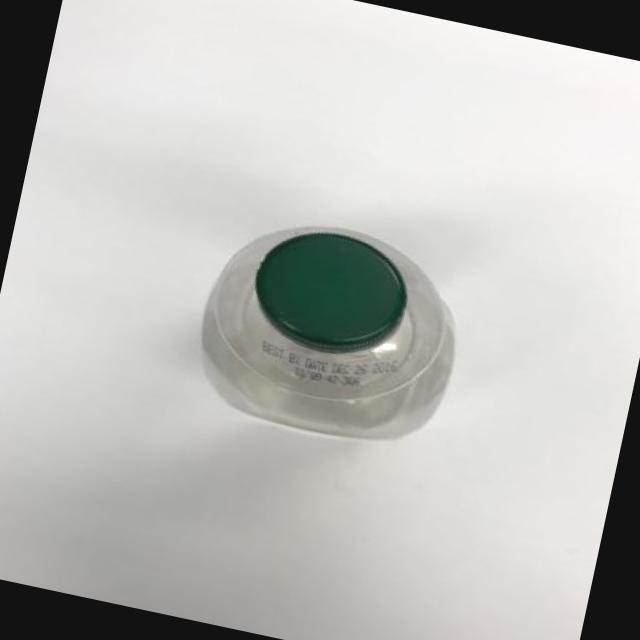plastic: (187, 211, 490, 470)
